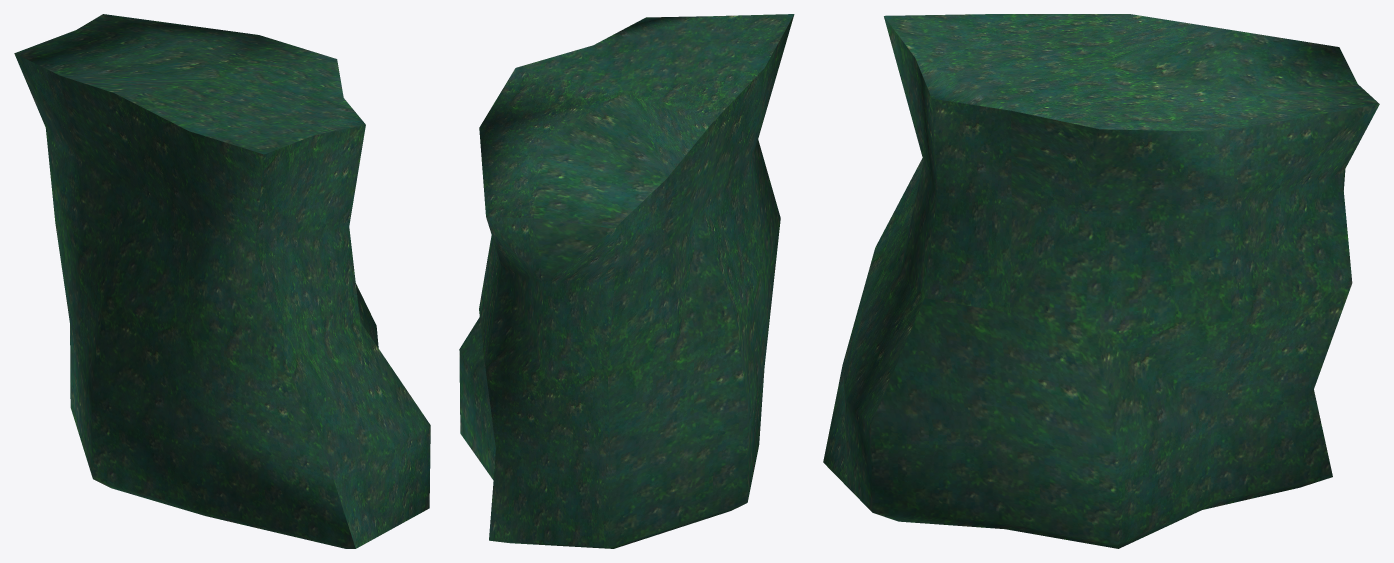
Rendered from MIRKWOOD_MIRK_PLAYSURFACE10.fbx.
3 views of the same model, side by side, from view 1: azimuth 30°, elevation 25°; view 2: azimuth 150°, elevation 25°; view 3: azimuth 270°, elevation 25° (orthographic). The views are drawn at different scales.
Parts seen in each view (by area): view 1: MIRKWOOD_MIRK_PLAYSURFACE10; view 2: MIRKWOOD_MIRK_PLAYSURFACE10; view 3: MIRKWOOD_MIRK_PLAYSURFACE10.
Boxes of the visible parts, box(x1,y1,x2,y2) form: MIRKWOOD_MIRK_PLAYSURFACE10: box(14, 14, 430, 548); MIRKWOOD_MIRK_PLAYSURFACE10: box(459, 14, 794, 548); MIRKWOOD_MIRK_PLAYSURFACE10: box(823, 14, 1379, 548).
Bounding box in the file's own units: 40466 × 54417 × 64264.
Materials: 1 (1 with a texture image).
